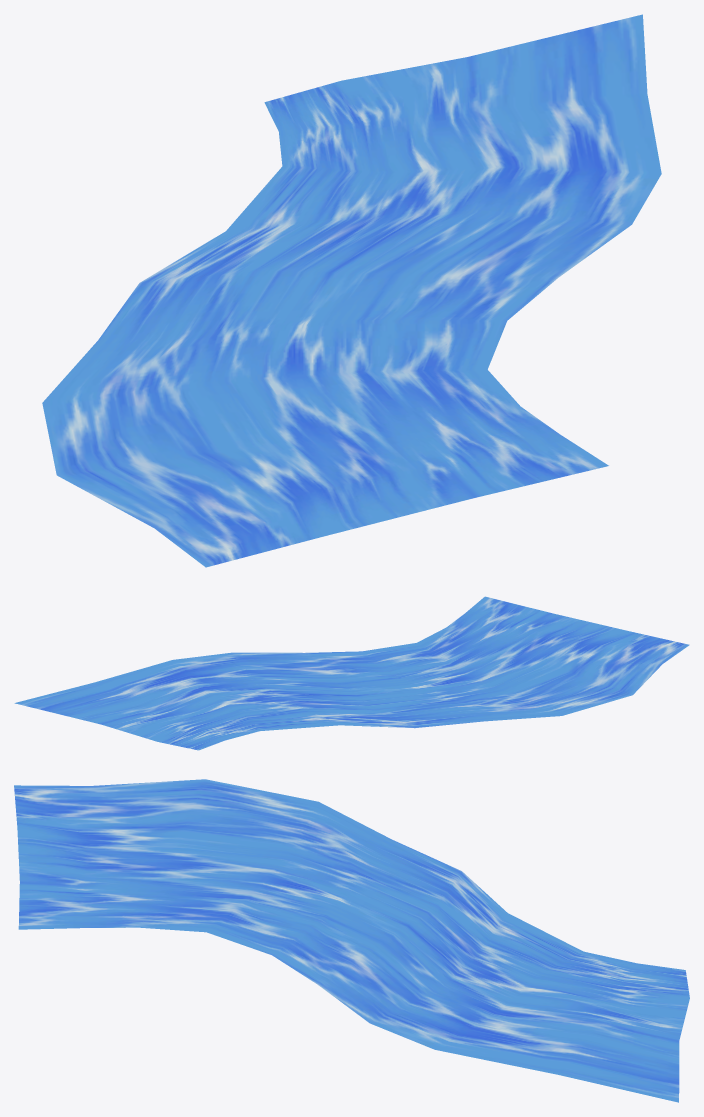
File: scene_10001_water03.FBX
3 views of the same model, one above another, from view 1: azimuth 30°, elevation 25°; view 2: azimuth 150°, elevation 25°; view 3: azimuth 270°, elevation 25° (orthographic). The views are drawn at different scales.
Visible parts, largest first — view 1: Plane002; view 2: Plane002; view 3: Plane002.
Part boxes in pixels (bbox=[...]): Plane002: bbox=[42, 14, 661, 567]; Plane002: bbox=[14, 596, 689, 750]; Plane002: bbox=[14, 779, 689, 1102].
Size of the model in its own units: 1029 by 3.05e-05 by 909.
